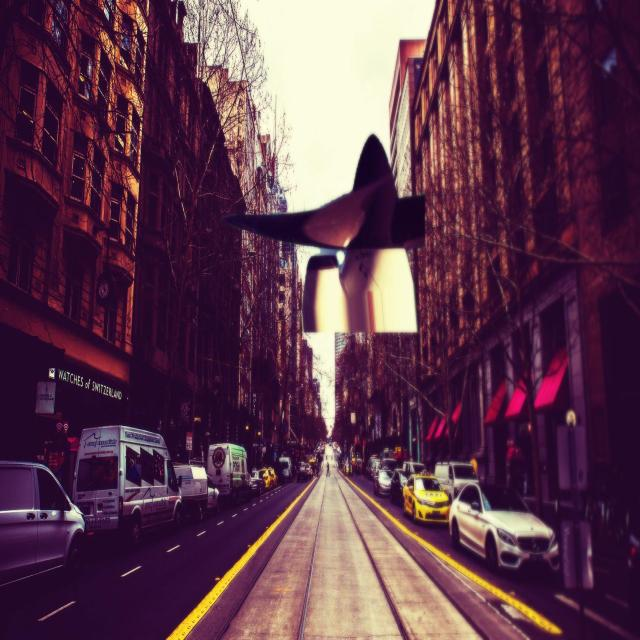airplane: (222, 132, 426, 333)
